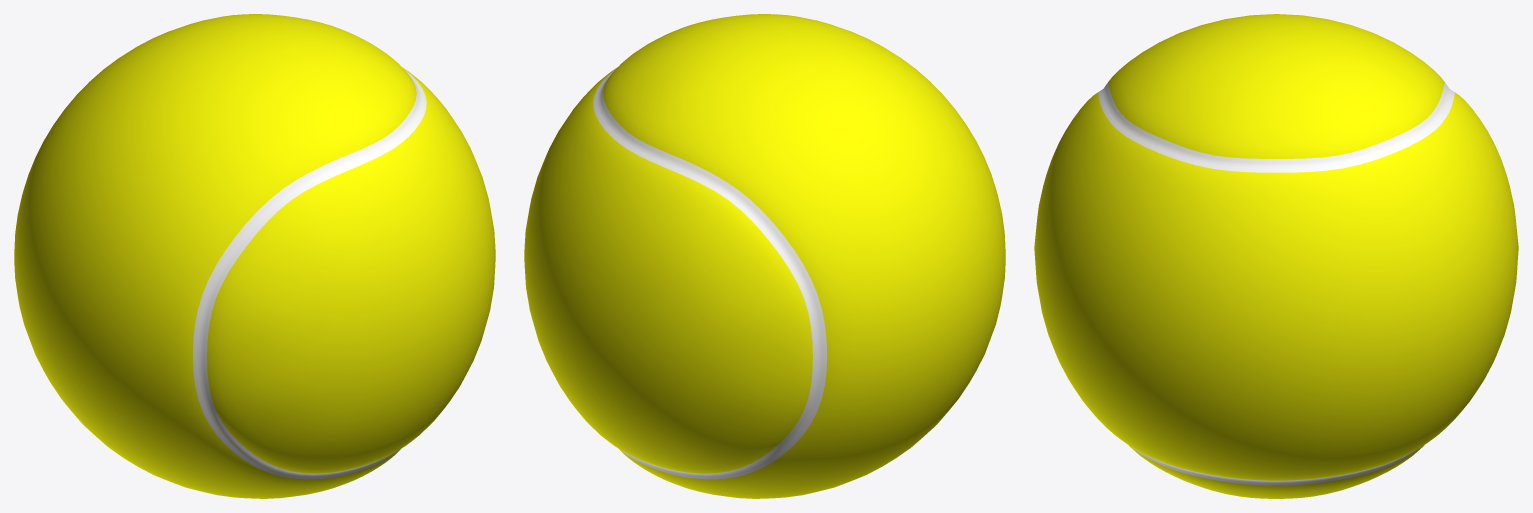
Rendered from tennis_yellow.dae.
3 renders of one model, left to right at view 1: azimuth 30°, elevation 25°; view 2: azimuth 150°, elevation 25°; view 3: azimuth 270°, elevation 25°, orthographic.
Parts seen in each view (by area): view 1: SketchUp (×3); view 2: SketchUp (×3); view 3: SketchUp (×3).
Boxes of the visible parts, left/top/right/bottom form: SketchUp (×3): left=14, top=14, right=495, bottom=498; SketchUp (×3): left=524, top=14, right=1005, bottom=498; SketchUp (×3): left=1034, top=14, right=1518, bottom=498.
Size of the model in its own units: 2.5 by 2.51 by 2.51.
